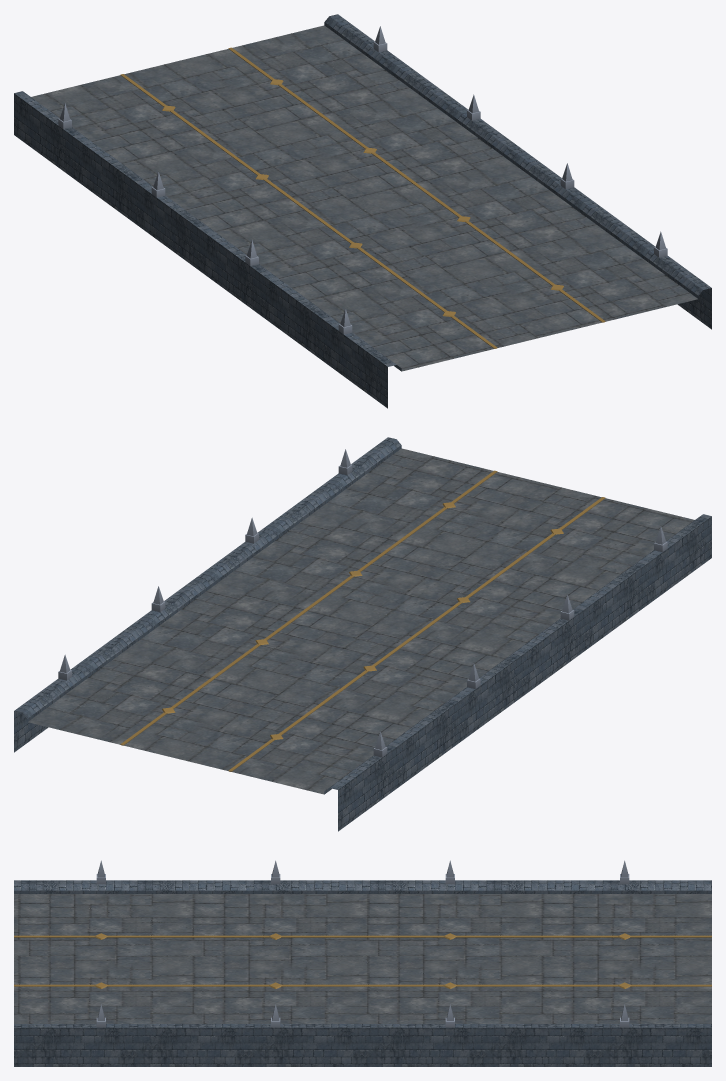
Rendered from ashen_cathedral_segment.glb.
3 renders of one model, top to bottom at view 1: azimuth 30°, elevation 25°; view 2: azimuth 150°, elevation 25°; view 3: azimuth 270°, elevation 25°, orthographic. The views are drawn at different scales.
Visible parts, largest first — view 1: ashen_cathedral_floor, ashen_cathedral_segment_trim; view 2: ashen_cathedral_floor, ashen_cathedral_segment_trim; view 3: ashen_cathedral_floor, ashen_cathedral_segment_trim.
Part boxes in pixels (bbox=[...]): ashen_cathedral_floor: bbox=[14, 14, 711, 408]; ashen_cathedral_segment_trim: bbox=[58, 26, 667, 348]; ashen_cathedral_floor: bbox=[14, 437, 711, 831]; ashen_cathedral_segment_trim: bbox=[58, 449, 667, 771]; ashen_cathedral_floor: bbox=[14, 880, 711, 1066]; ashen_cathedral_segment_trim: bbox=[14, 860, 711, 1027].
Bounding box in the file's own units: 6 × 1.16 × 12.
4 materials, 2 textured.
